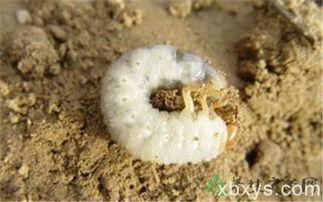grub: (96, 42, 241, 166)
